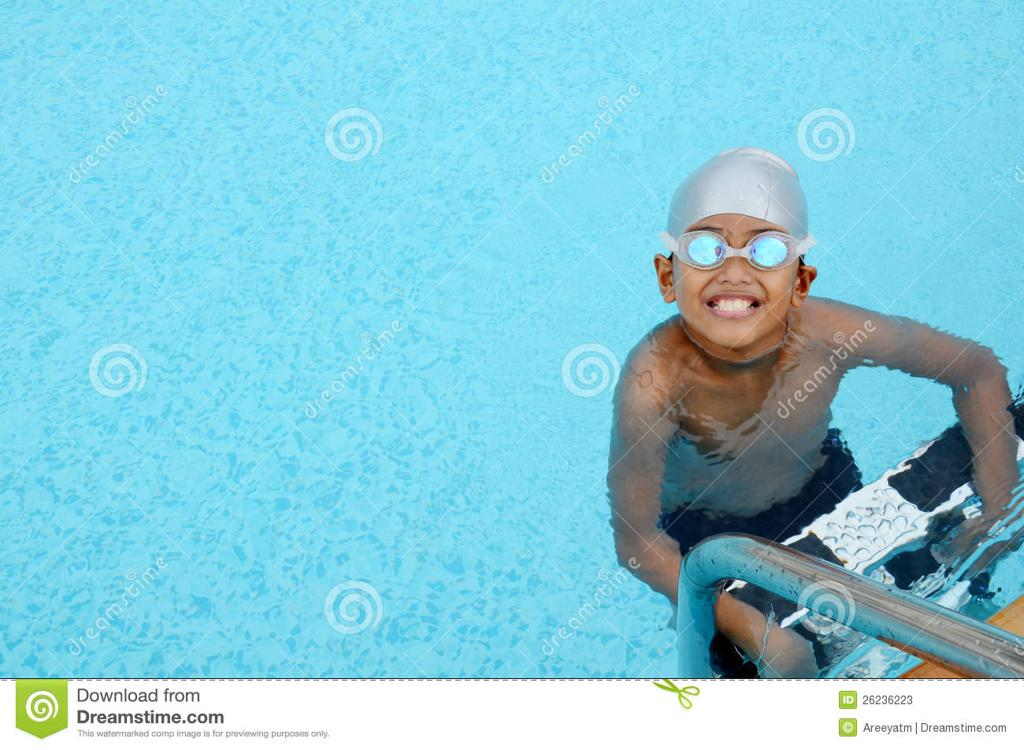face: (678, 208, 800, 348)
